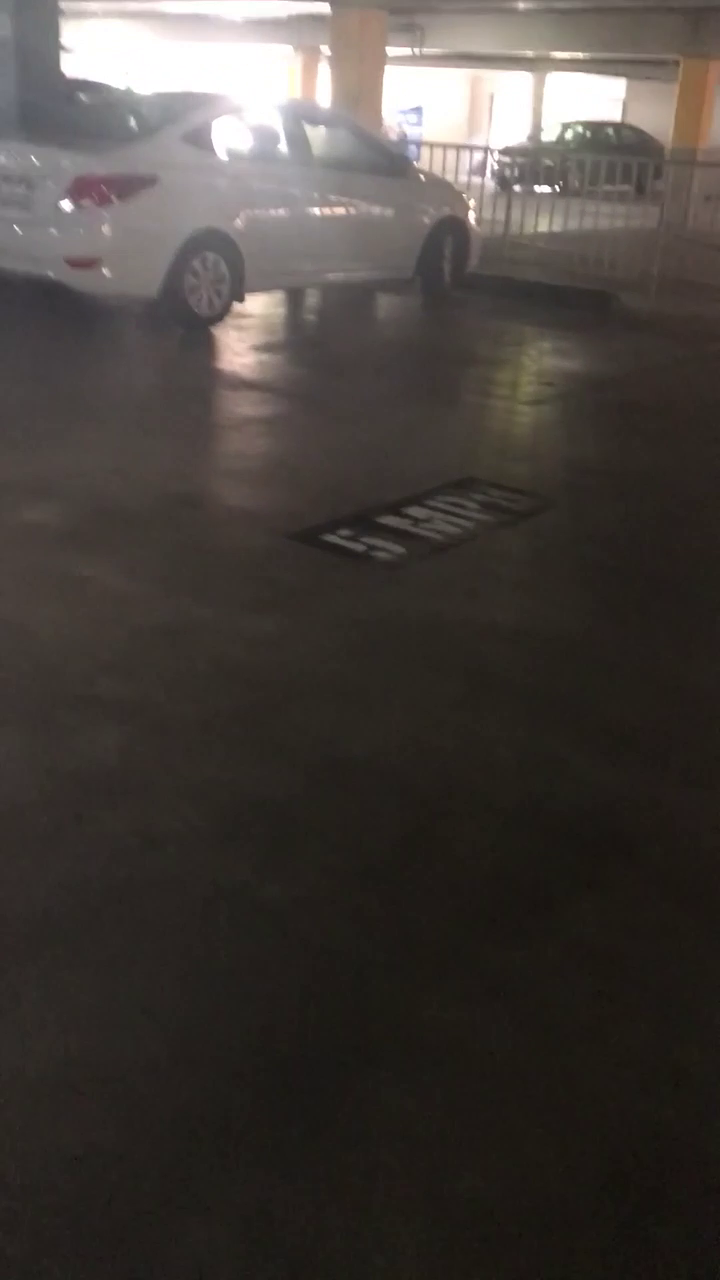car: (3, 32, 456, 322)
